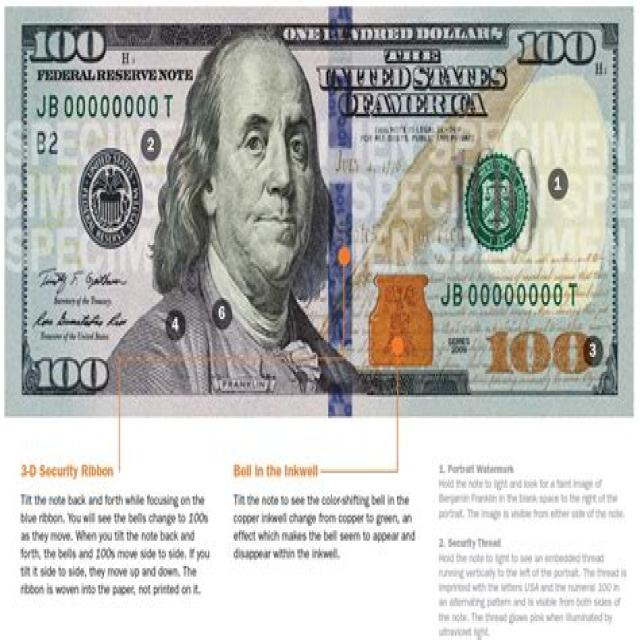Hundred: (4, 6, 634, 416)
